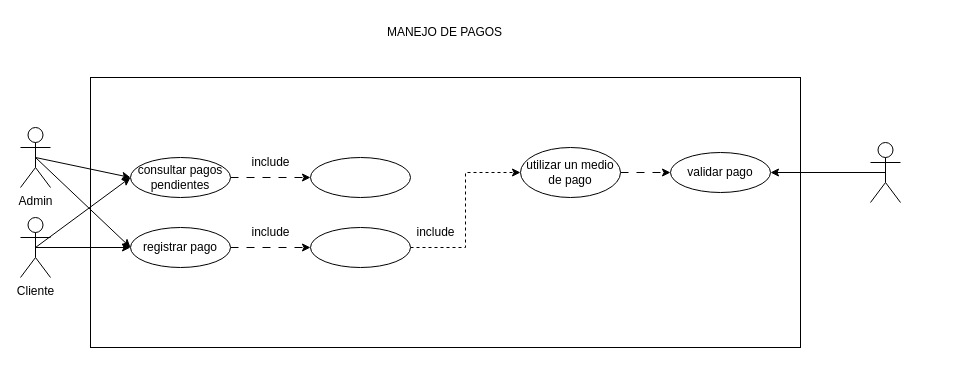
Some shapes in this 958 by 365 pixel diagram are drawn without their labels. Each missing label, with the box of its shape:
Entidades Bancarias: (870, 142, 900, 202)
gestionar medios de pago: (310, 226, 410, 268)
ver pagos: (310, 156, 410, 198)
